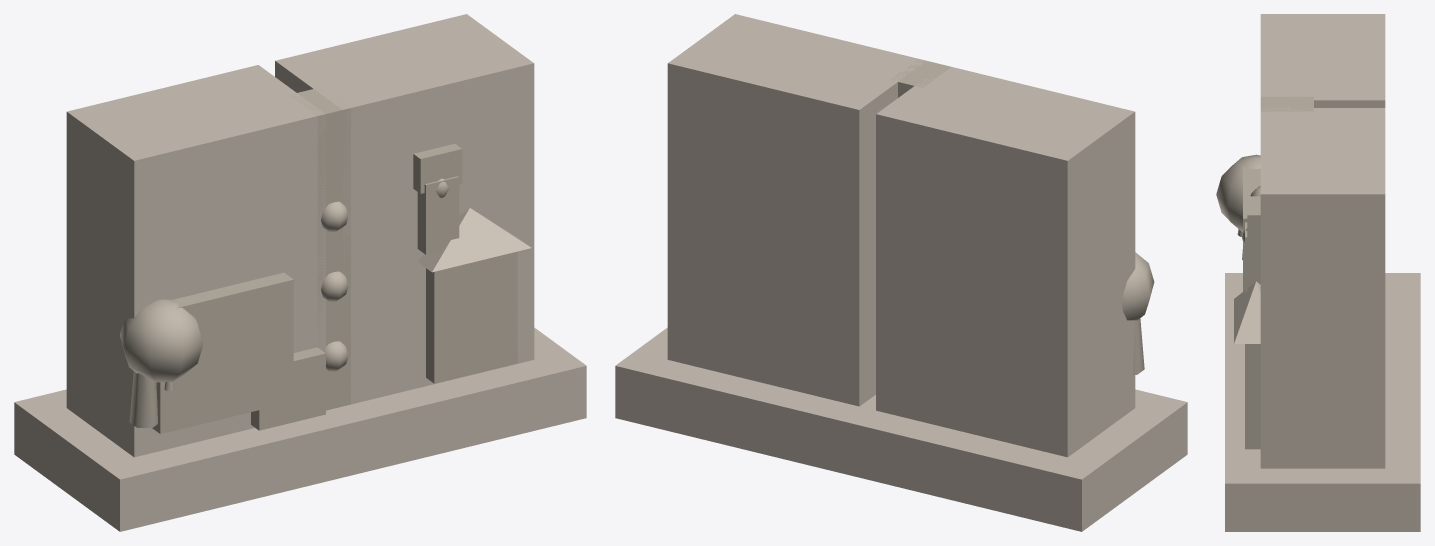
Rendered from stone_sculpture.glb.
3 views of the same model, side by side, from view 1: azimuth 30°, elevation 25°; view 2: azimuth 150°, elevation 25°; view 3: azimuth 270°, elevation 25° (orthographic). The views are drawn at different scales.
Parts seen in each view (by area): view 1: Left_Cliff_Face_Node, Right_Cliff_Face_Node, Bedrock_Plinth_Node, Elephant_Body_Relief_Node, Mini_Shrine_Niche_Node, River_Cleft_Recess_Node, Elephant_Head_Node, Mini_Shrine_Roof_Node, Baby_Elephant_Relief_Node, Ascetic_Torso_Node, Ascetic_Raised_Arms_Node, Elephant_Trunk_Node (+1 smaller); view 2: Left_Cliff_Face_Node, Right_Cliff_Face_Node, Bedrock_Plinth_Node, Elephant_Head_Node, River_Cleft_Recess_Node; view 3: Right_Cliff_Face_Node, Bedrock_Plinth_Node, Left_Cliff_Face_Node, Mini_Shrine_Niche_Node, Elephant_Head_Node, Mini_Shrine_Roof_Node, River_Cleft_Recess_Node, Ascetic_Raised_Arms_Node, Elephant_Body_Relief_Node, Ascetic_Torso_Node.
Part boxes in pixels (left/top/right/bottom): Left_Cliff_Face_Node: left=66, top=65, right=325, bottom=457; Right_Cliff_Face_Node: left=275, top=14, right=534, bottom=404; Bedrock_Plinth_Node: left=14, top=327, right=586, bottom=531; Elephant_Body_Relief_Node: left=152, top=272, right=293, bottom=434; Mini_Shrine_Niche_Node: left=426, top=251, right=517, bottom=383; River_Cleft_Recess_Node: left=290, top=89, right=350, bottom=410; Elephant_Head_Node: left=120, top=299, right=203, bottom=382; Mini_Shrine_Roof_Node: left=417, top=208, right=531, bottom=272; Baby_Elephant_Relief_Node: left=251, top=347, right=325, bottom=430; Ascetic_Torso_Node: left=417, top=176, right=459, bottom=254; Ascetic_Raised_Arms_Node: left=413, top=143, right=462, bottom=193; Elephant_Trunk_Node: left=129, top=371, right=157, bottom=427; Left_Cliff_Face_Node: left=876, top=65, right=1135, bottom=457; Right_Cliff_Face_Node: left=667, top=14, right=925, bottom=406; Bedrock_Plinth_Node: left=615, top=327, right=1187, bottom=531; Elephant_Head_Node: left=1122, top=252, right=1154, bottom=320; River_Cleft_Recess_Node: left=890, top=59, right=951, bottom=97; Right_Cliff_Face_Node: left=1260, top=108, right=1385, bottom=468; Bedrock_Plinth_Node: left=1225, top=273, right=1420, bottom=531; Left_Cliff_Face_Node: left=1260, top=14, right=1385, bottom=107; Mini_Shrine_Niche_Node: left=1245, top=344, right=1260, bottom=449; Elephant_Head_Node: left=1216, top=154, right=1260, bottom=231; Mini_Shrine_Roof_Node: left=1234, top=281, right=1260, bottom=343; River_Cleft_Recess_Node: left=1260, top=96, right=1313, bottom=111; Ascetic_Raised_Arms_Node: left=1247, top=196, right=1260, bottom=247; Elephant_Body_Relief_Node: left=1243, top=166, right=1260, bottom=291; Ascetic_Torso_Node: left=1245, top=222, right=1260, bottom=293.
Size of the model in its own units: 5.6 by 4 by 2.3.
